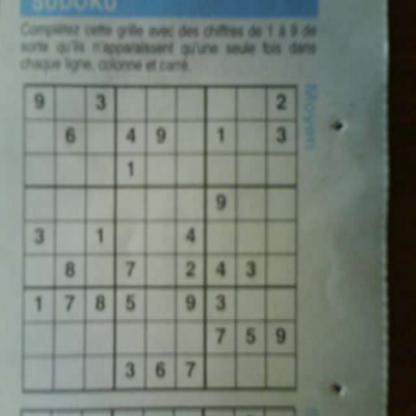sudoku: (18, 79, 304, 397)
